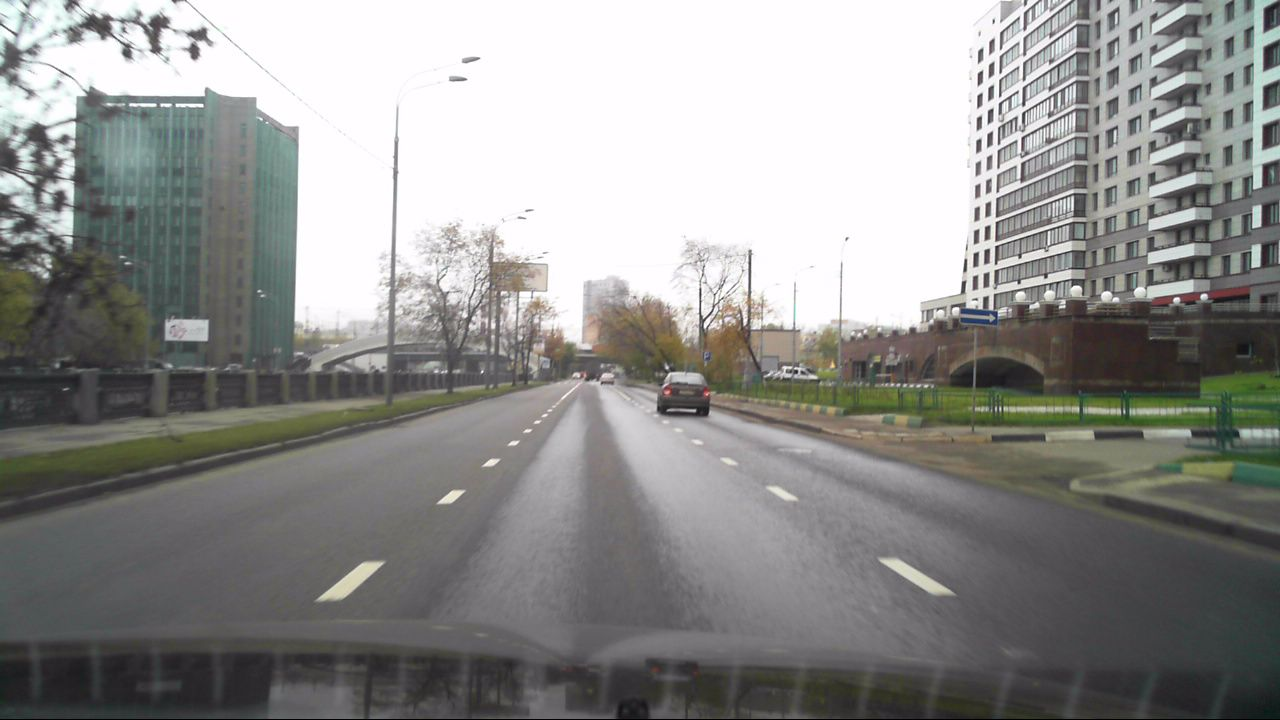One-Way Traffic: (959, 308, 998, 326)
